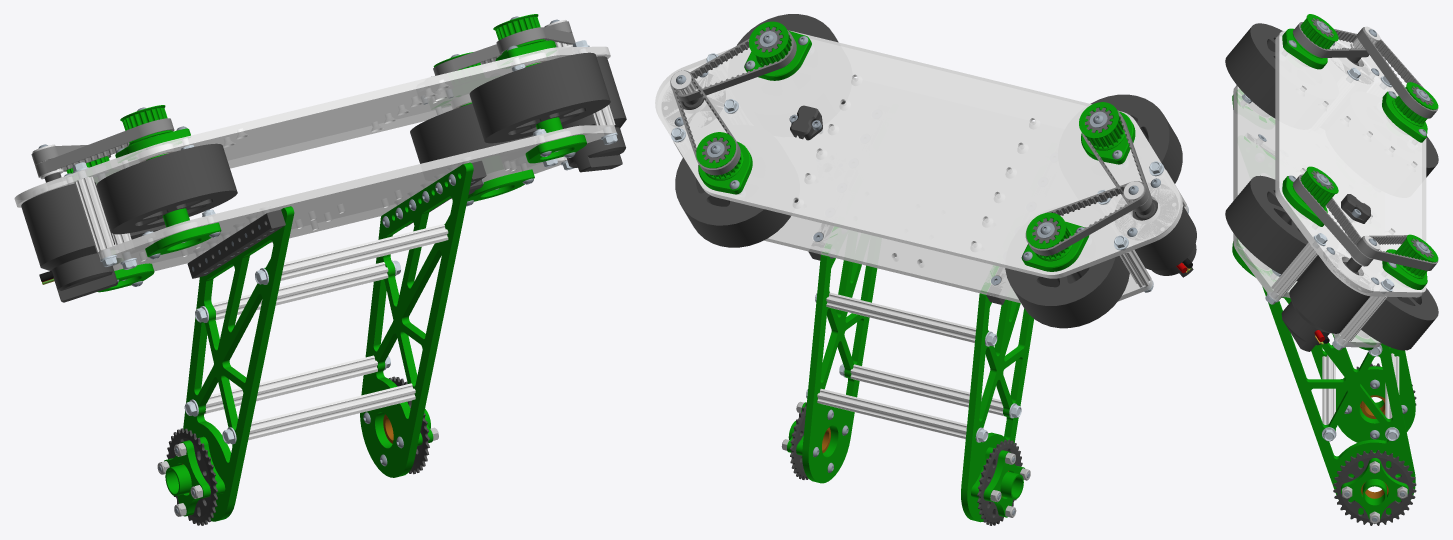
3 renders of one model, left to right at view 1: azimuth 30°, elevation 25°; view 2: azimuth 150°, elevation 25°; view 3: azimuth 270°, elevation 25°, orthographic. The views are drawn at different scales.
Parts seen in each view (by area): view 1: Plate (×2), 4" Solid Urethane Wheel 1/2" Hex Bore - 45A (TTB-0106) (×3), Base Plate, Top Plate, 1/2 Churro X 6" Long (×4), Simplified Falcon500 V1/V2 (×2), 50T HTD Belt (×3), Bearing Hat (×4), 36t Aluminum Plate Sprocket (#25 Chain, SplineXL Bore) (×2), Aluminum Nutstrip, #10-32, .500" Spacing (WCP-0336), 22T Custom Pulley (×2), 1/2 Churro X 2.25" Long (+1 smaller); view 2: Base Plate, Plate (×2), 4" Solid Urethane Wheel 1/2" Hex Bore - 45A (TTB-0106) (×4), Top Plate, 1/2 Churro X 6" Long (×3), 50T HTD Belt (×4), 22T Custom Pulley (×4), Simplified Falcon500 V1/V2 (×2), Bearing Hat (×4), 36t Aluminum Plate Sprocket (#25 Chain, SplineXL Bore) (×2), Bushing Hat, Adafruit Beam Break Cover (+1 smaller); view 3: Base Plate, 4" Solid Urethane Wheel 1/2" Hex Bore - 45A (TTB-0106) (×4), Plate (×2), 50T HTD Belt (×4), Simplified Falcon500 V1/V2, Top Plate, 22T Custom Pulley (×4), Bearing Hat (×5), 36t Aluminum Plate Sprocket (#25 Chain, SplineXL Bore), 1/2 Churro X 2.25" Long (×2), Bushing Hat, 1/2 Churro X 6" Long (×2) (+2 smaller).
Part boxes in pixels (bbox=[...]): Plate (×2): bbox=[183, 162, 473, 521]; 4" Solid Urethane Wheel 1/2" Hex Bore - 45A (TTB-0106) (×3): bbox=[96, 52, 610, 234]; Base Plate: bbox=[14, 46, 610, 207]; Top Plate: bbox=[98, 125, 616, 271]; 1/2 Churro X 6" Long (×4): bbox=[204, 224, 448, 440]; Simplified Falcon500 V1/V2 (×2): bbox=[21, 56, 626, 302]; 50T HTD Belt (×3): bbox=[35, 21, 575, 177]; Bearing Hat (×4): bbox=[115, 128, 586, 257]; 36t Aluminum Plate Sprocket (#25 Chain, SplineXL Bore) (×2): bbox=[166, 376, 429, 525]; Aluminum Nutstrip, #10-32, .500" Spacing (WCP-0336): bbox=[187, 209, 285, 278]; 22T Custom Pulley (×2): bbox=[120, 14, 546, 145]; 1/2 Churro X 2.25" Long: bbox=[74, 176, 114, 252]; Base Plate: bbox=[655, 30, 1182, 278]; Plate (×2): bbox=[802, 227, 1033, 522]; 4" Solid Urethane Wheel 1/2" Hex Bore - 45A (TTB-0106) (×4): bbox=[675, 14, 1182, 328]; Top Plate: bbox=[764, 78, 1188, 303]; 1/2 Churro X 6" Long (×3): bbox=[817, 292, 1005, 438]; 50T HTD Belt (×4): bbox=[670, 30, 1152, 255]; 22T Custom Pulley (×4): bbox=[696, 21, 1125, 261]; Simplified Falcon500 V1/V2 (×2): bbox=[662, 74, 1196, 277]; Bearing Hat (×4): bbox=[698, 30, 1135, 271]; 36t Aluminum Plate Sprocket (#25 Chain, SplineXL Bore) (×2): bbox=[790, 402, 1022, 525]; Bushing Hat: bbox=[983, 450, 1024, 517]; Adafruit Beam Break Cover: bbox=[790, 105, 822, 140]; Base Plate: bbox=[1275, 31, 1426, 297]; 4" Solid Urethane Wheel 1/2" Hex Bore - 45A (TTB-0106) (×4): bbox=[1225, 23, 1438, 350]; Plate (×2): bbox=[1244, 137, 1415, 514]; 50T HTD Belt (×4): bbox=[1293, 22, 1438, 270]; Simplified Falcon500 V1/V2: bbox=[1281, 250, 1373, 351]; Top Plate: bbox=[1233, 85, 1381, 347]; 22T Custom Pulley (×4): bbox=[1292, 14, 1438, 278]; Bearing Hat (×5): bbox=[1232, 28, 1427, 289]; 36t Aluminum Plate Sprocket (#25 Chain, SplineXL Bore): bbox=[1333, 450, 1416, 525]; 1/2 Churro X 2.25" Long (×2): bbox=[1271, 242, 1387, 341]; Bushing Hat: bbox=[1341, 458, 1408, 519]; 1/2 Churro X 6" Long (×2): bbox=[1322, 353, 1399, 424].
Size of the model in its own units: 0.5189 by 0.393 by 0.1954.
